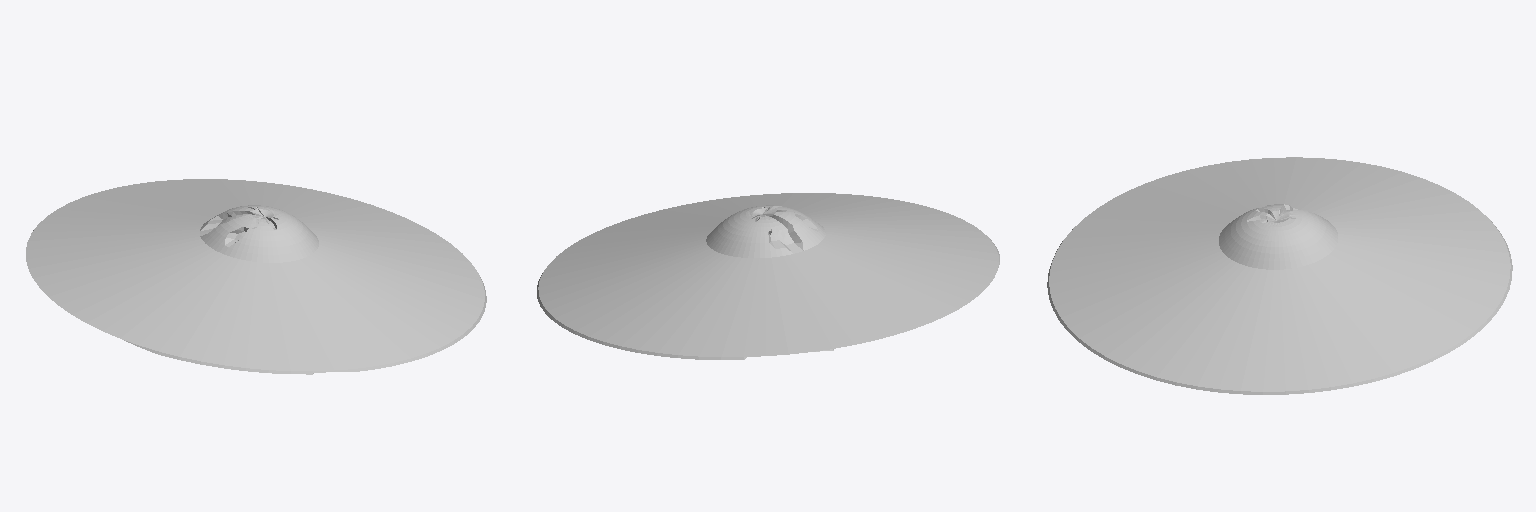
File: drumsetV4_CrashSymbal_Keyframe.obj
3 views of the same model, side by side, from view 1: azimuth 30°, elevation 25°; view 2: azimuth 150°, elevation 25°; view 3: azimuth 270°, elevation 25° (orthographic).
Parts seen in each view (by area): view 1: drumsetV4_CrashSymbal_Cylinder.024; view 2: drumsetV4_CrashSymbal_Cylinder.024; view 3: drumsetV4_CrashSymbal_Cylinder.024.
Boxes of the visible parts, x1=… form: drumsetV4_CrashSymbal_Cylinder.024: x1=26, y1=179, x2=486, y2=374; drumsetV4_CrashSymbal_Cylinder.024: x1=537, y1=193, x2=999, y2=359; drumsetV4_CrashSymbal_Cylinder.024: x1=1047, y1=157, x2=1512, y2=394.
Size of the model in its own units: 1.44 by 0.2937 by 1.45.